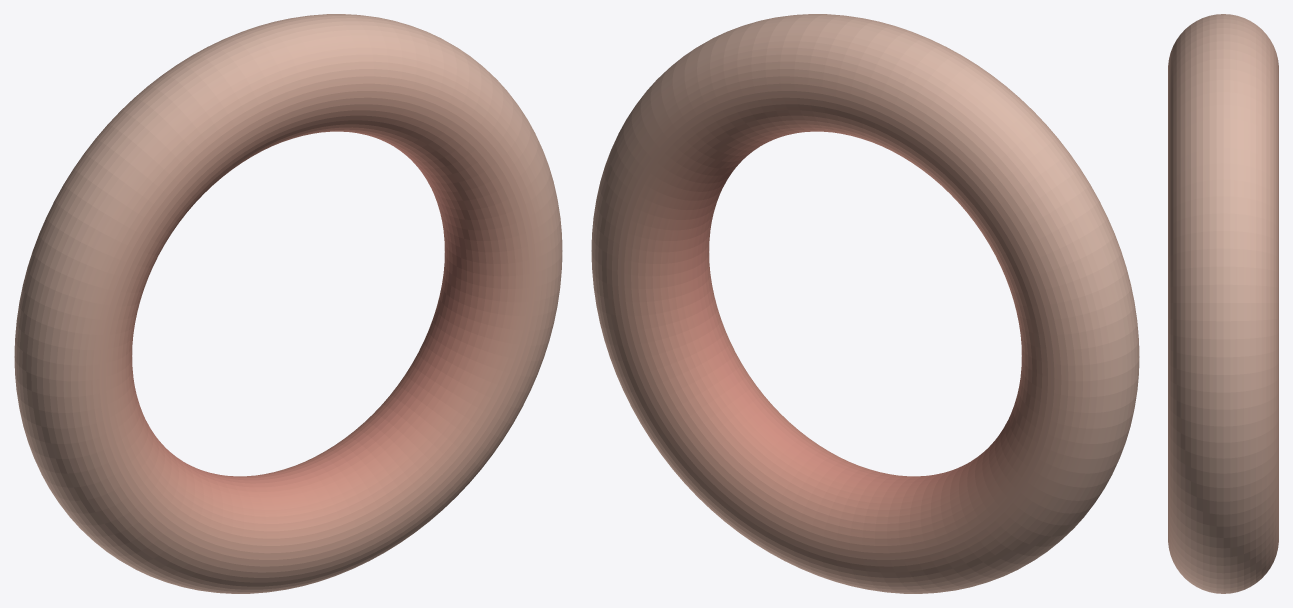
The picture shows the model from 3 angles, left to right: view 1: azimuth 30°, elevation 25°; view 2: azimuth 150°, elevation 25°; view 3: azimuth 270°, elevation 25°; orthographic projection. The views are drawn at different scales.
Parts seen in each view (by area): view 1: world; view 2: world; view 3: world.
Boxes of the visible parts, x1,y1,x2,y2 form: world: [14, 14, 562, 593]; world: [591, 14, 1139, 593]; world: [1168, 14, 1278, 593].
Bounding box in the file's own units: 31.33 × 31.33 × 5.99.
